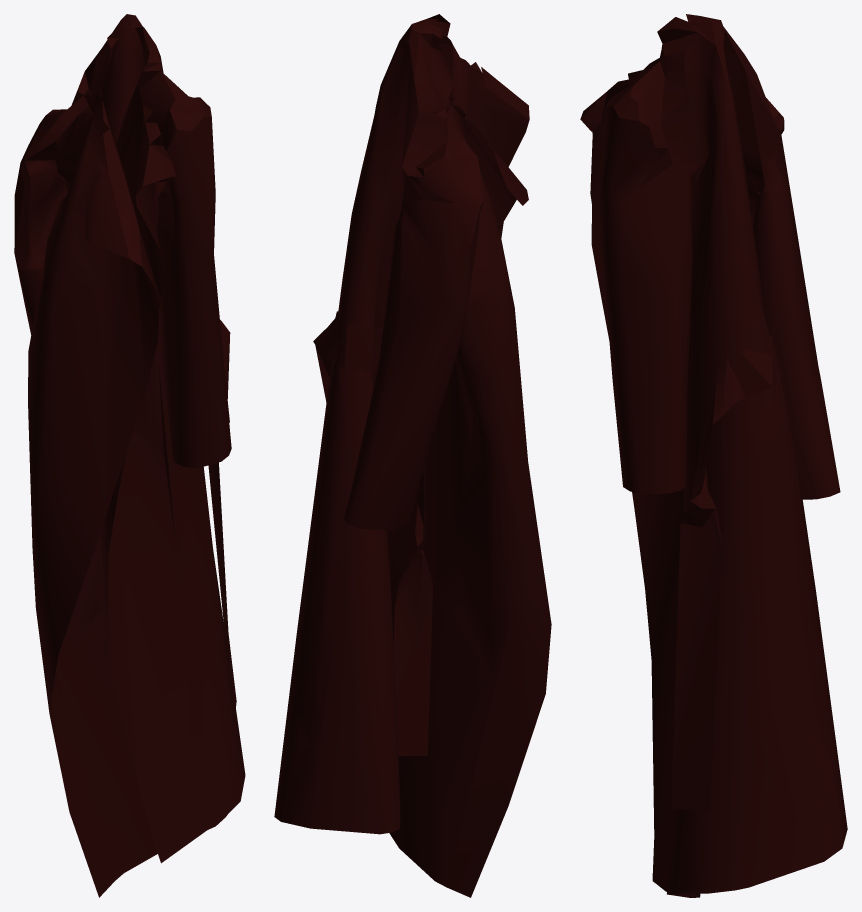
Rendered from Coat.FBX.
The picture shows the model from 3 angles, left to right: view 1: azimuth 30°, elevation 25°; view 2: azimuth 150°, elevation 25°; view 3: azimuth 270°, elevation 25°; orthographic projection. The views are drawn at different scales.
Parts seen in each view (by area): view 1: Coat; view 2: Coat; view 3: Coat.
Part boxes in pixels (box(x1,y1,x2,y2)): Coat: box(14, 14, 245, 897); Coat: box(274, 14, 551, 897); Coat: box(580, 14, 847, 897).
Bounding box in the file's own units: 35.69 × 133 × 35.94.
